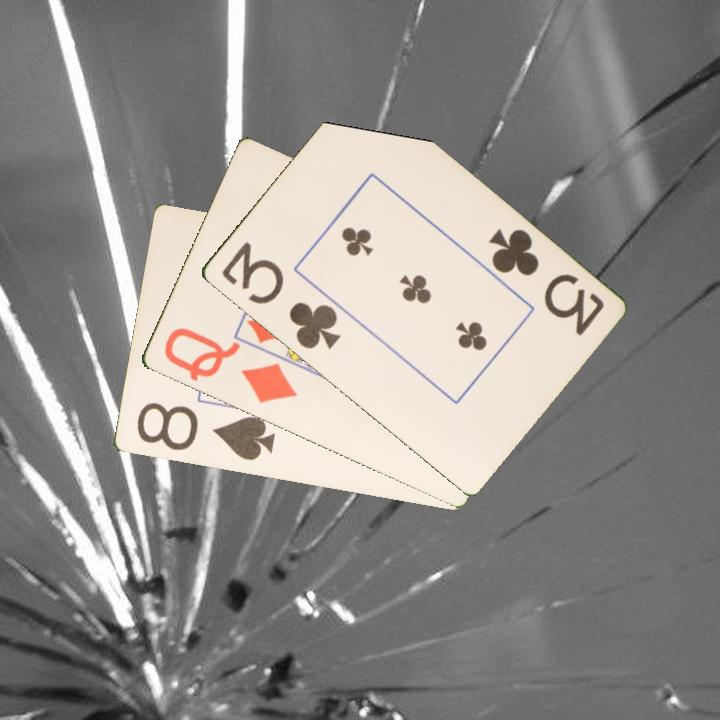3c: (217, 237, 343, 353), (484, 224, 607, 339)
8s: (132, 399, 277, 464)
Qd: (160, 324, 300, 407)
